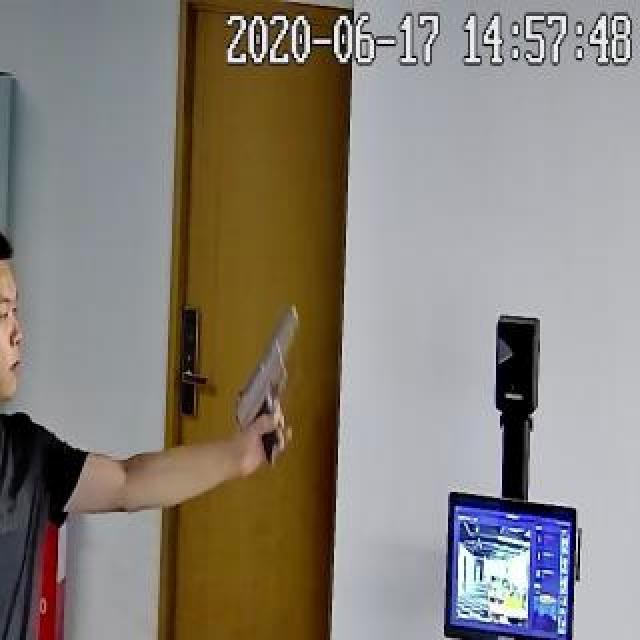Guns: (206, 290, 332, 492)
